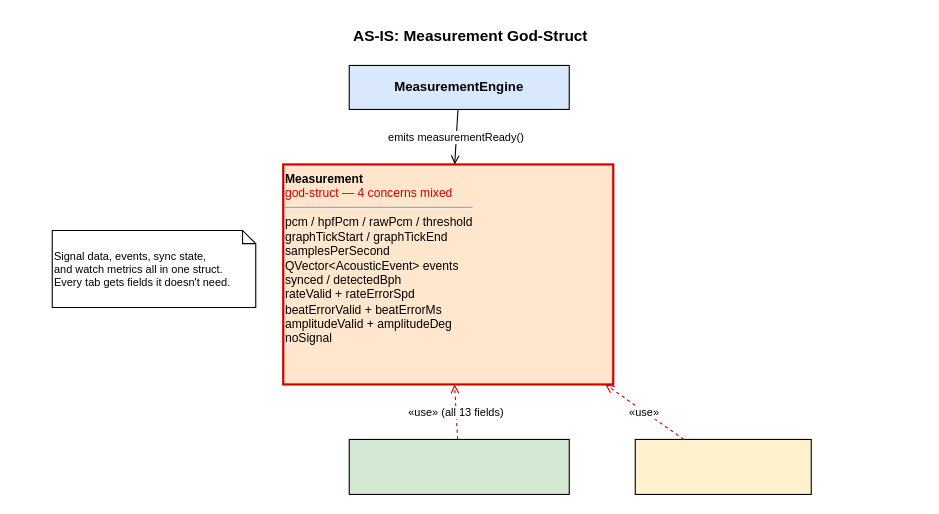
Image size: 939x514. Some labels were removed from this diagram. The centre of each missing label's shape, as x and y in pixels:
13 Tabs (BaseGraphTab subclasses): (458,466)
MainWindow: (722,466)
